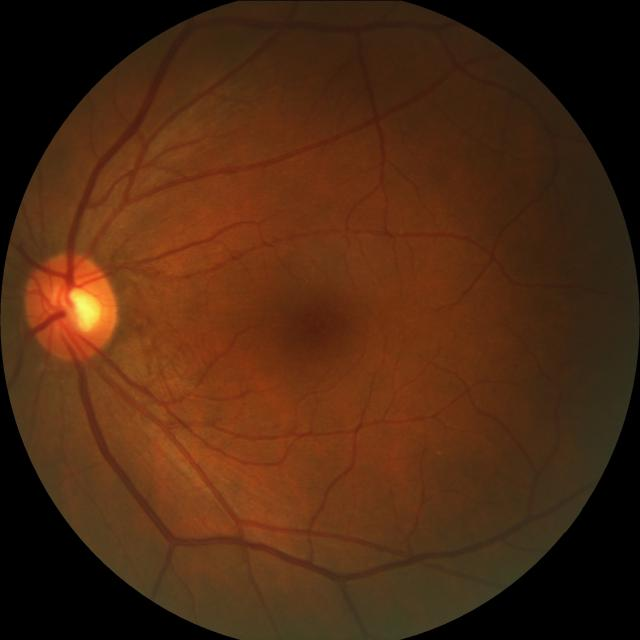OC: (54, 284, 100, 336)
OD: (22, 250, 118, 359)
